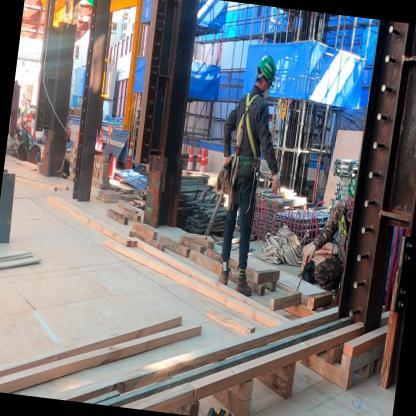Helmet: (256, 47, 282, 85)
safety-shoe: (231, 274, 257, 304), (212, 261, 231, 295)
